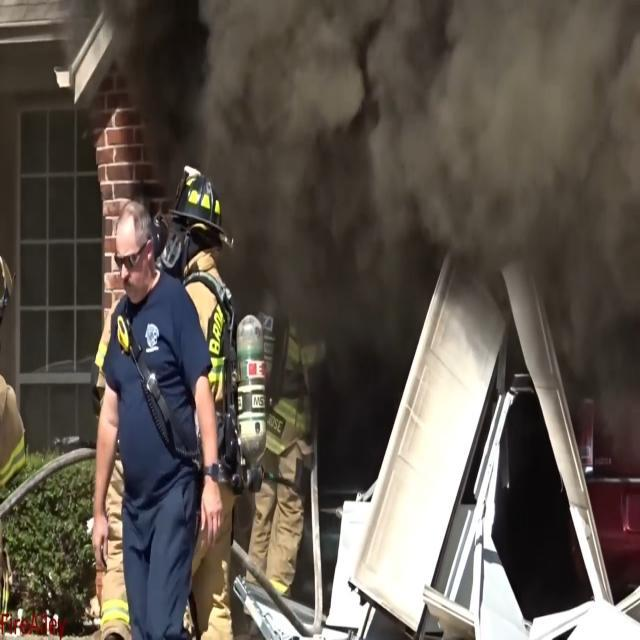Smoke: (212, 11, 628, 278)
